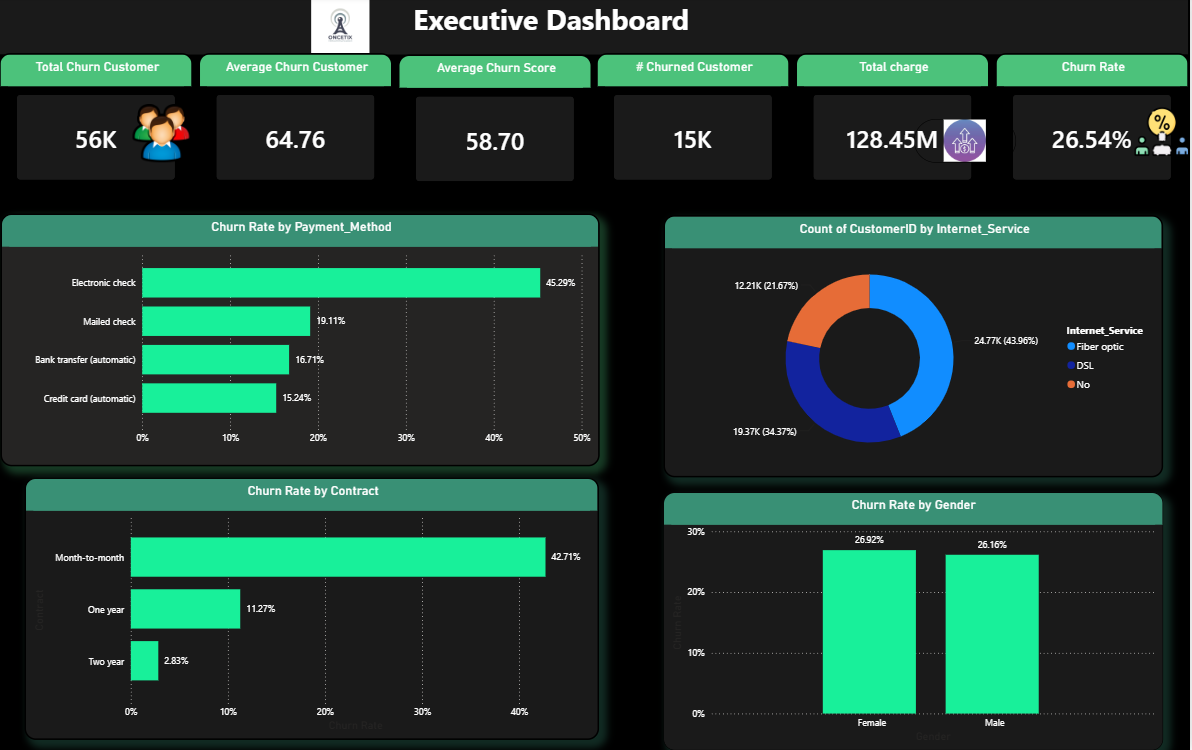

What the dashboard file says about the page in this screenshot:
{"tool":"powerbi","page":{"name":"Page 1","canvas":[1580,1000],"ordinal":0},"visuals":[{"type":"shape","box":[0,0,1577.3,77.6],"z":0},{"type":"textbox","box":[192.1,0,1078.8,77.6],"z":1000},{"type":"clusteredBarChart","fields":{"Category":["Telco_customer_churn_cleaned.Contract"],"Y":["Telco_customer_churn_cleaned.Churn Rate"]},"box":[34.7,639.5,762,348.2],"z":2000},{"type":"donutChart","fields":{"Category":["Telco_customer_churn_cleaned.Internet_Service"],"Y":["CountNonNull(Telco_customer_churn_cleaned.CustomerID)"]},"box":[881.3,290.5,662.5,348.2],"z":3000},{"type":"clusteredBarChart","fields":{"Category":["Telco_customer_churn_cleaned.Payment_Method"],"Y":["Telco_customer_churn_cleaned.Churn Rate"]},"box":[2,288.1,794.8,335.1],"z":4000},{"type":"image","box":[373.9,0,157.3,77.6],"z":9000},{"type":"cardVisual","title":"Total Churn Customer","fields":{"Data":["Telco_customer_churn_cleaned.Total Customer"]},"box":[0,76.3,257.4,192.1],"z":11000},{"type":"image","box":[175.7,143,81.7,77.6],"z":12000},{"type":"cardVisual","title":"Average Churn Customer","fields":{"Data":["Telco_customer_churn_cleaned.average Monthly charges"]},"box":[263.9,76.3,257.4,192.1],"z":13000},{"type":"cardVisual","title":"Average Churn Score","fields":{"Data":["Telco_customer_churn_cleaned.average Churn Score"]},"box":[528.2,77.6,257.4,192.1],"z":14000},{"type":"cardVisual","title":"# Churned Customer","fields":{"Data":["Telco_customer_churn_cleaned.#Churned Customer"]},"box":[792.6,76.3,257.4,192.1],"z":15000},{"type":"cardVisual","title":"Total charge","fields":{"Data":["Sum(Telco_customer_churn_cleaned.Total_Charges)"]},"box":[1057,76.3,257.4,192.1],"z":16000},{"type":"cardVisual","title":"Churn Rate","fields":{"Data":["Telco_customer_churn_cleaned.Churn Rate"]},"box":[1321.4,76.3,257.4,192.1],"z":17000},{"type":"image","box":[1213.6,163.1,135.3,57.7],"z":18000},{"type":"image","box":[1506,143.2,73.6,73.6],"z":19000},{"type":"clusteredColumnChart","fields":{"Y":["Telco_customer_churn_cleaned.Churn Rate"],"Category":["Telco_customer_churn_cleaned.Gender"]},"box":[881.3,658.5,662.5,342.2],"z":19001}]}

Visuals, with their boxes in screenshot pixels (x1, y1, x2, y2), scaled from the page's 1580x1000 canvas onto the 1192x750 screenshot:
shape: x1=0 y1=0 x2=1190 y2=58
textbox: x1=145 y1=0 x2=959 y2=58
clusteredBarChart - Telco_customer_churn_cleaned.Contract x Telco_customer_churn_cleaned.Churn Rate: x1=26 y1=480 x2=601 y2=741
donutChart - Telco_customer_churn_cleaned.Internet_Service x CountNonNull(Telco_customer_churn_cleaned.CustomerID): x1=665 y1=218 x2=1165 y2=479
clusteredBarChart - Telco_customer_churn_cleaned.Payment_Method x Telco_customer_churn_cleaned.Churn Rate: x1=2 y1=216 x2=601 y2=467
image: x1=282 y1=0 x2=401 y2=58
"Total Churn Customer" cardVisual: x1=0 y1=57 x2=194 y2=201
image: x1=133 y1=107 x2=194 y2=165
"Average Churn Customer" cardVisual: x1=199 y1=57 x2=393 y2=201
"Average Churn Score" cardVisual: x1=398 y1=58 x2=593 y2=202
"# Churned Customer" cardVisual: x1=598 y1=57 x2=792 y2=201
"Total charge" cardVisual: x1=797 y1=57 x2=992 y2=201
"Churn Rate" cardVisual: x1=997 y1=57 x2=1191 y2=201
image: x1=916 y1=122 x2=1018 y2=166
image: x1=1136 y1=107 x2=1191 y2=163
clusteredColumnChart - Telco_customer_churn_cleaned.Churn Rate x Telco_customer_churn_cleaned.Gender: x1=665 y1=494 x2=1165 y2=749
